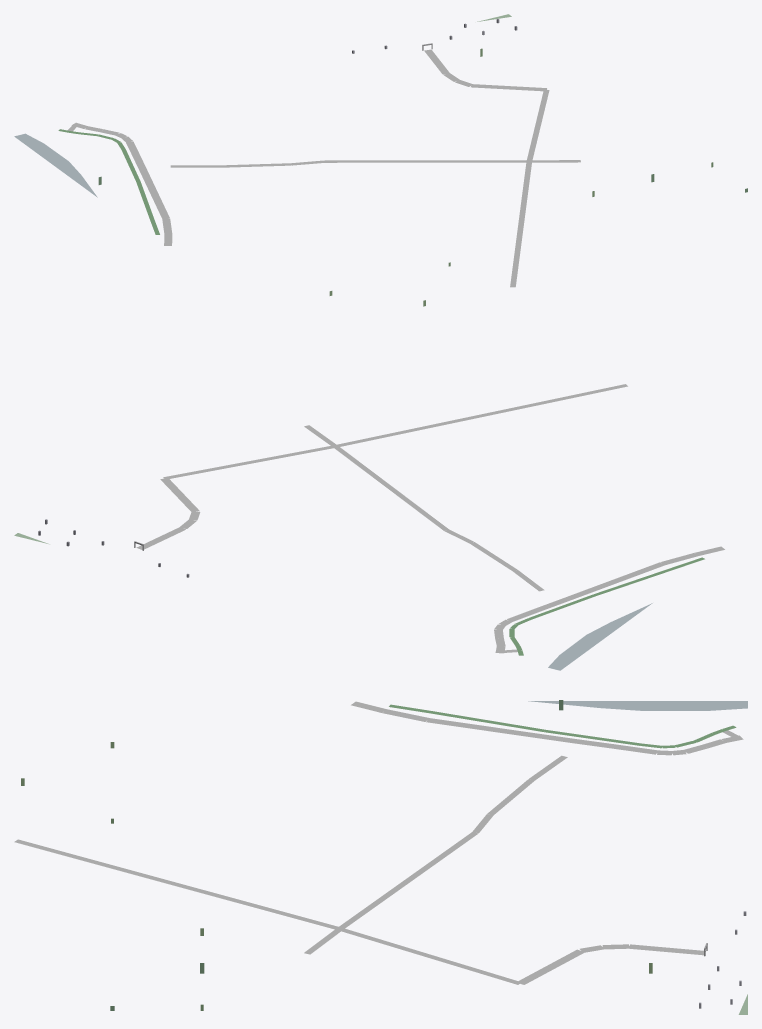
3 views of the same model, one above another, from view 1: azimuth 30°, elevation 25°; view 2: azimuth 150°, elevation 25°; view 3: azimuth 270°, elevation 25° (orthographic). The views are drawn at different scales.
Bounding box in the file's own units: 500 × 9.62 × 491.
